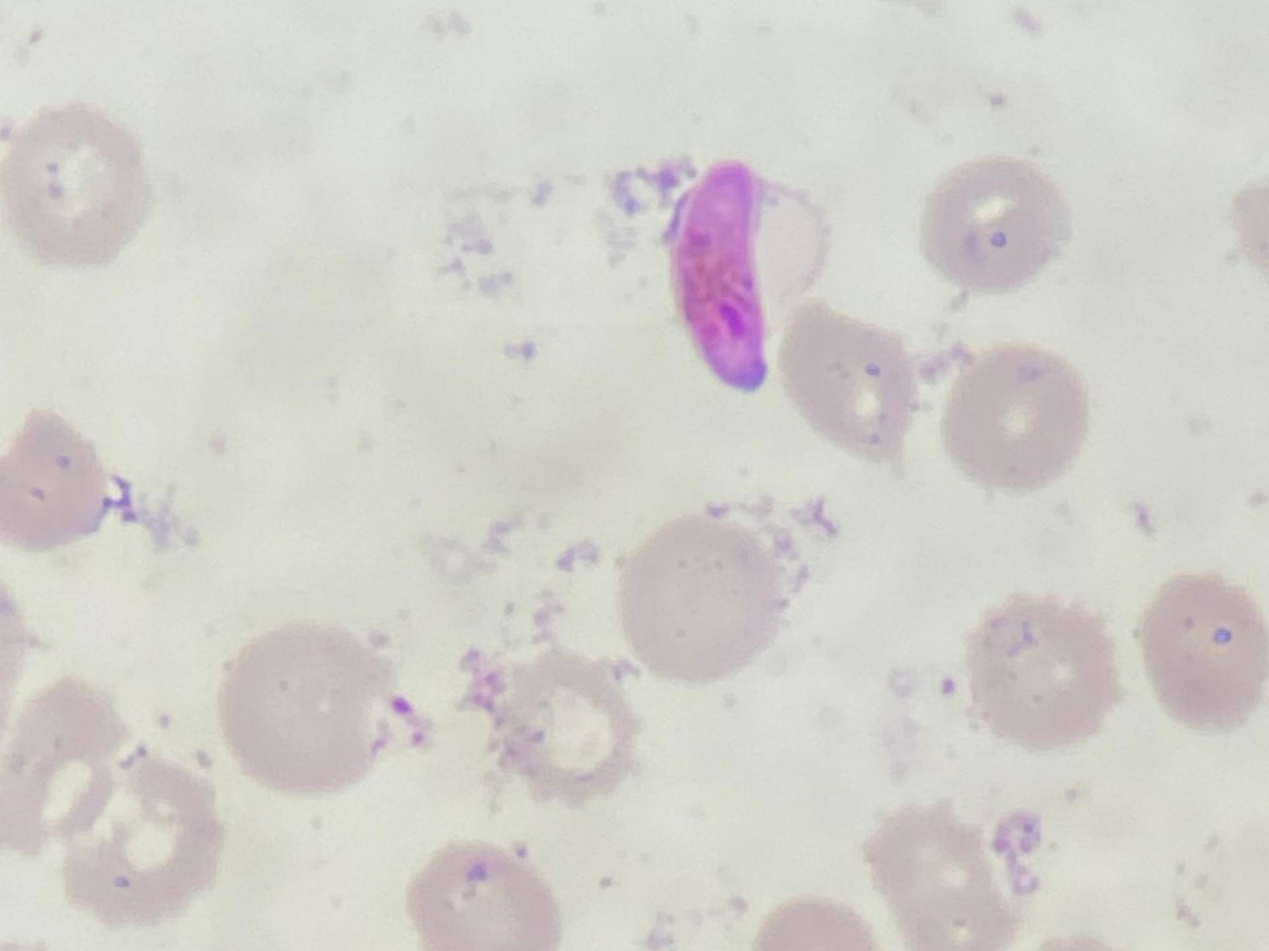Infected: (671, 157, 822, 390)
Uninfected: (223, 622, 390, 793), (59, 760, 225, 921), (621, 516, 775, 683), (965, 592, 1125, 750), (3, 99, 151, 269), (861, 805, 1018, 951), (0, 679, 132, 847), (783, 303, 921, 460), (920, 154, 1072, 291), (940, 347, 1088, 487), (1143, 575, 1269, 738), (502, 650, 634, 796), (408, 841, 567, 951), (0, 410, 110, 554)
